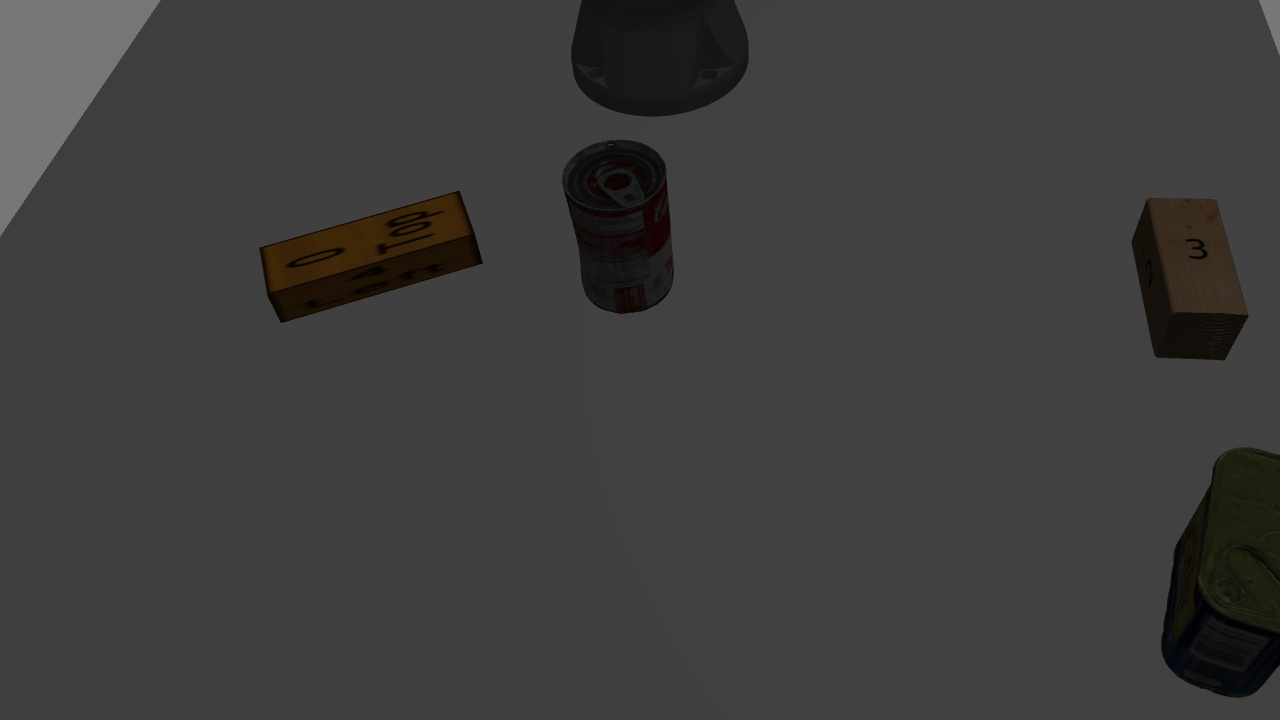jenga: (258, 188, 483, 329)
potted_meat_can: (1157, 422, 1271, 702)
tomato_soup_can: (556, 135, 688, 323)
wood_block: (1118, 190, 1253, 375)
